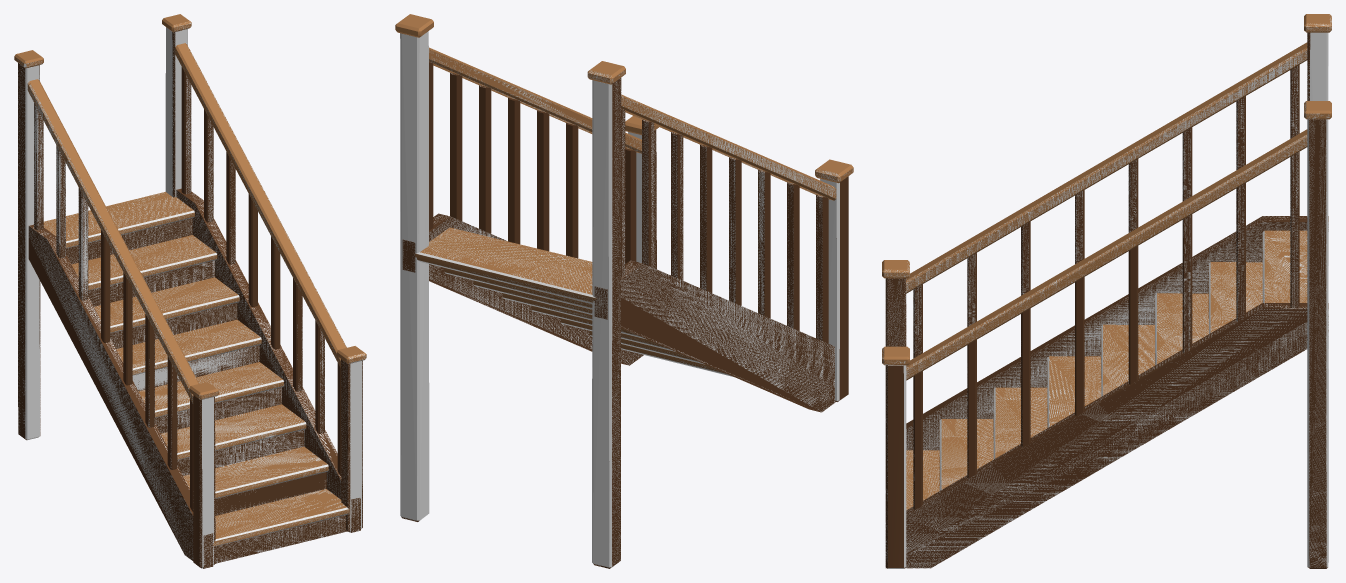
File: wooden_staircase.glb
3 renders of one model, left to right at view 1: azimuth 30°, elevation 25°; view 2: azimuth 150°, elevation 25°; view 3: azimuth 270°, elevation 25°, orthographic. The views are drawn at different scales.
Parts seen in each view (by area): view 1: stringer_left, COL_wooden_staircase_01, stringer_right, handrail_left, handrail_right, COL_wooden_staircase_21, tread_0, newel_top_left, tread_1, tread_7, COL_wooden_staircase_00, tread_5 (+54 smaller); view 2: stringer_left, COL_wooden_staircase_20, COL_wooden_staircase_21, COL_wooden_staircase_01, tread_7, newel_top_left, stringer_right, handrail_left, handrail_right, COL_wooden_staircase_09, COL_wooden_staircase_00, COL_wooden_staircase_19 (+27 smaller); view 3: stringer_right, COL_wooden_staircase_00, stringer_left, newel_top_right, handrail_right, handrail_left, COL_wooden_staircase_01, COL_wooden_staircase_20, newel_bottom_right, COL_wooden_staircase_27, tread_7, tread_6 (+34 smaller).
Boxes of the visible parts, box(x1,y1,x2,y2) form: stringer_left: box(28, 224, 213, 568); COL_wooden_staircase_01: box(28, 226, 213, 568); stringer_right: box(176, 188, 360, 532); handrail_left: box(27, 79, 199, 403); handrail_right: box(175, 43, 346, 367); COL_wooden_staircase_21: box(18, 65, 40, 440); tread_0: box(213, 489, 349, 546); newel_top_left: box(18, 63, 40, 439); tread_1: box(183, 446, 328, 497); tread_7: box(43, 192, 194, 247); COL_wooden_staircase_00: box(176, 190, 360, 532); tread_5: box(94, 277, 239, 332); stringer_left: box(594, 260, 835, 412); COL_wooden_staircase_20: box(400, 31, 429, 520); COL_wooden_staircase_21: box(592, 79, 621, 568); COL_wooden_staircase_01: box(594, 261, 835, 411); tread_7: box(413, 227, 596, 302); newel_top_left: box(594, 78, 621, 568); stringer_right: box(402, 213, 643, 365); handrail_left: box(621, 94, 836, 200); handrail_right: box(429, 47, 641, 153); COL_wooden_staircase_09: box(415, 228, 595, 304); COL_wooden_staircase_00: box(403, 215, 641, 364); COL_wooden_staircase_19: box(820, 179, 839, 401); stringer_right: box(886, 303, 1328, 568); COL_wooden_staircase_00: box(885, 303, 1328, 568); stringer_left: box(906, 216, 1328, 450); newel_top_right: box(1308, 119, 1327, 568); handrail_right: box(906, 129, 1307, 380); handrail_left: box(906, 42, 1307, 293); COL_wooden_staircase_01: box(906, 216, 1328, 450); COL_wooden_staircase_20: box(1307, 119, 1328, 567); newel_bottom_right: box(885, 365, 905, 568); COL_wooden_staircase_27: box(906, 48, 1307, 292); tread_7: box(1262, 230, 1307, 302); tread_6: box(1208, 262, 1262, 332).
Size of the model in its own units: 1.22 by 2.64 by 2.34.
